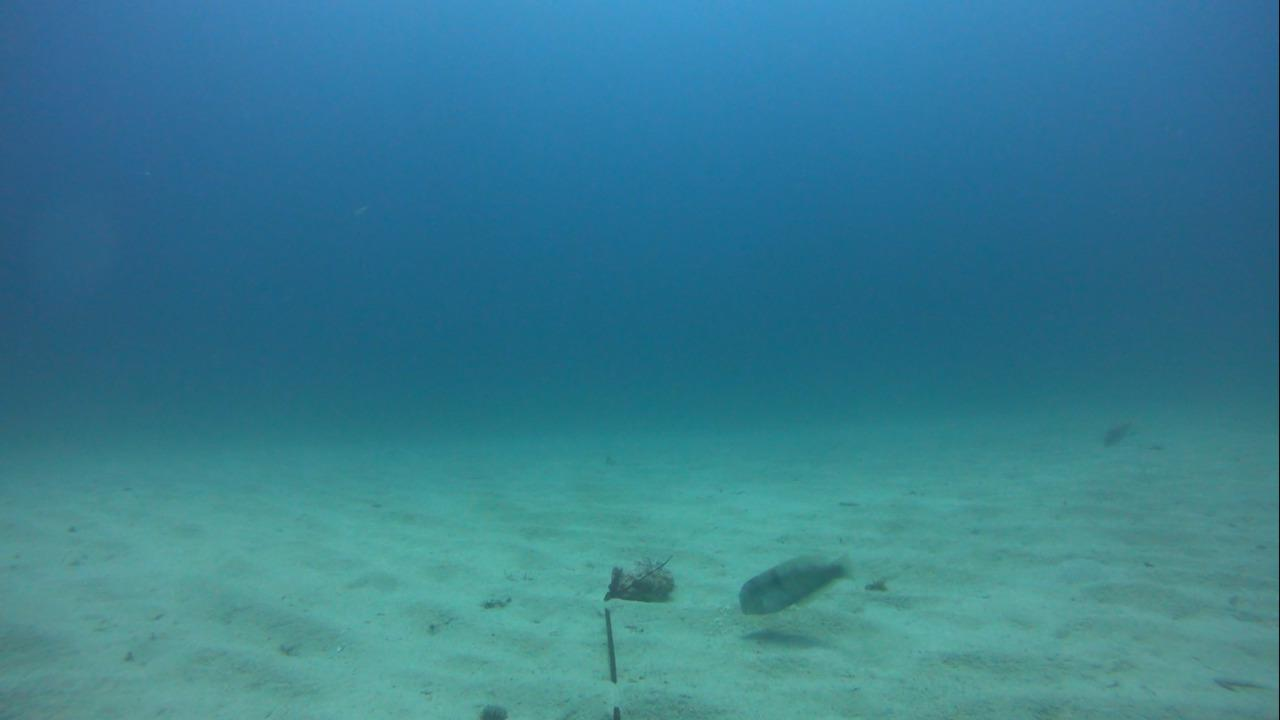raor: (733, 554, 855, 625), (1090, 416, 1139, 458)
